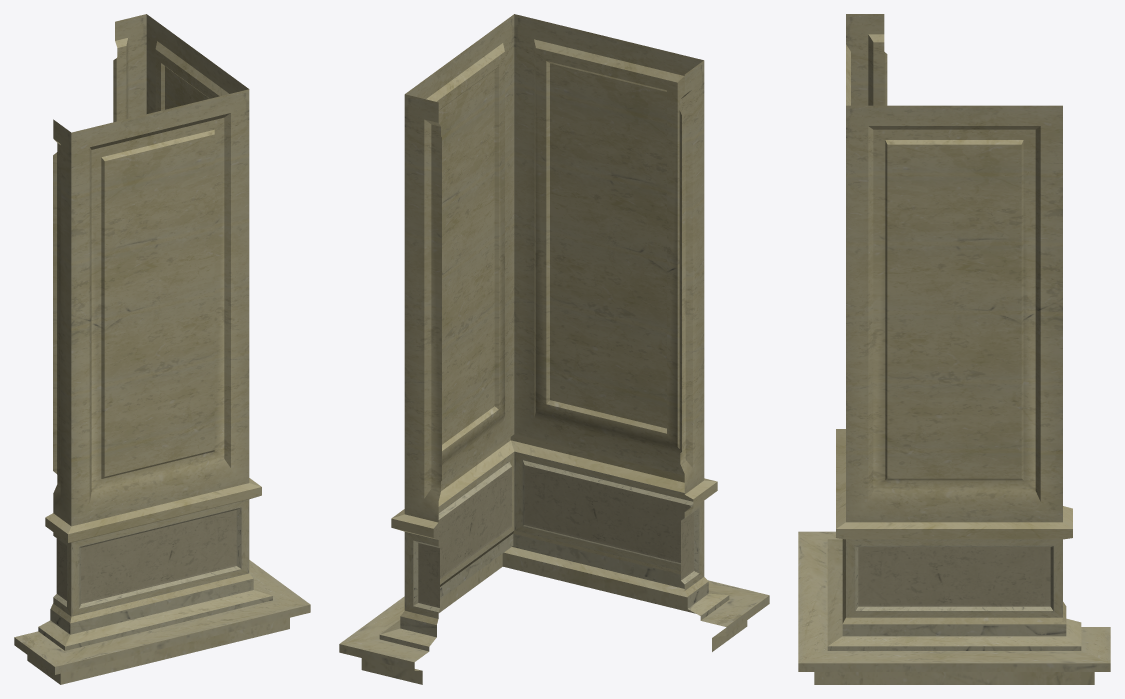
The model's file is Marble_ColumnInset_Large_Bottom.gltf.
3 views of the same model, side by side, from view 1: azimuth 30°, elevation 25°; view 2: azimuth 150°, elevation 25°; view 3: azimuth 270°, elevation 25° (orthographic). The views are drawn at different scales.
Visible parts, largest first — view 1: Marble_ColumnInset_Large_Bottom; view 2: Marble_ColumnInset_Large_Bottom; view 3: Marble_ColumnInset_Large_Bottom.
Boxes of the visible parts, x1,y1,x2,y2 form: Marble_ColumnInset_Large_Bottom: [14, 14, 310, 684]; Marble_ColumnInset_Large_Bottom: [339, 14, 769, 684]; Marble_ColumnInset_Large_Bottom: [798, 14, 1110, 684].
Size of the model in its own units: 2 by 4 by 2.
Materials: 2 (2 with a texture image).
